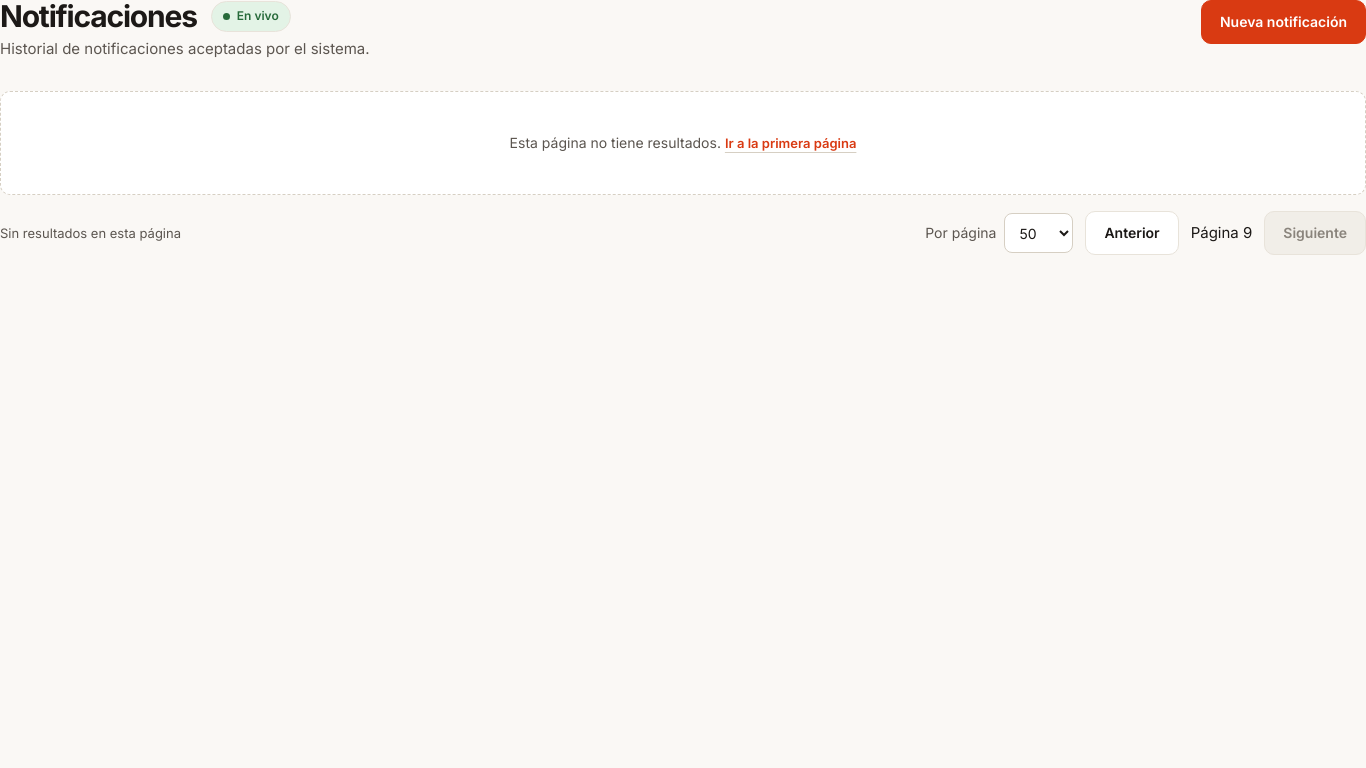
Listado (paginación) › muestra un aviso y permite volver cuando la página pedida ya no tiene resultados
Expected: the text "Esta página no tiene resultados. Ir a la primera página" is shown, [0,91,1365,195]
Click the button "Ir a la primera página": (791, 143) [725,133,856,154]
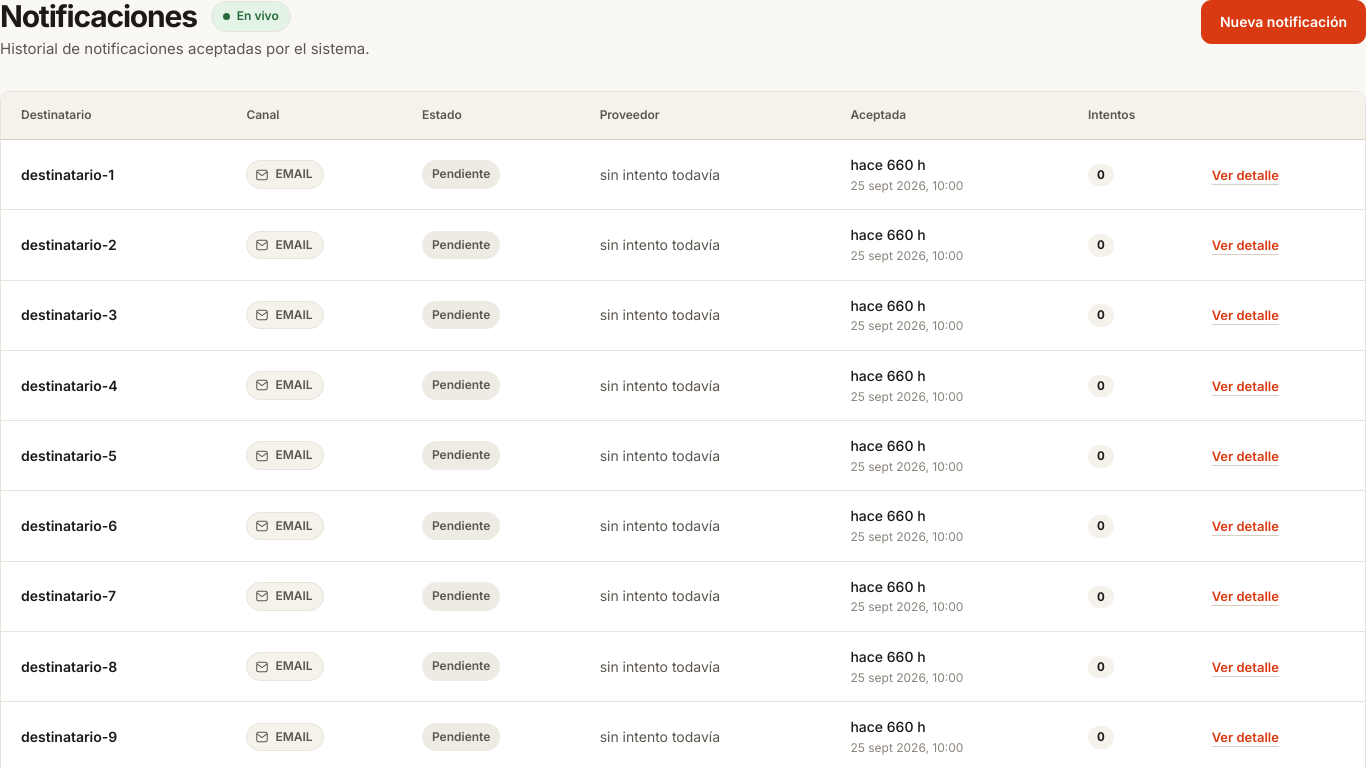
Expected: the text "destinatario-1" is shown, [21,166,114,183]
